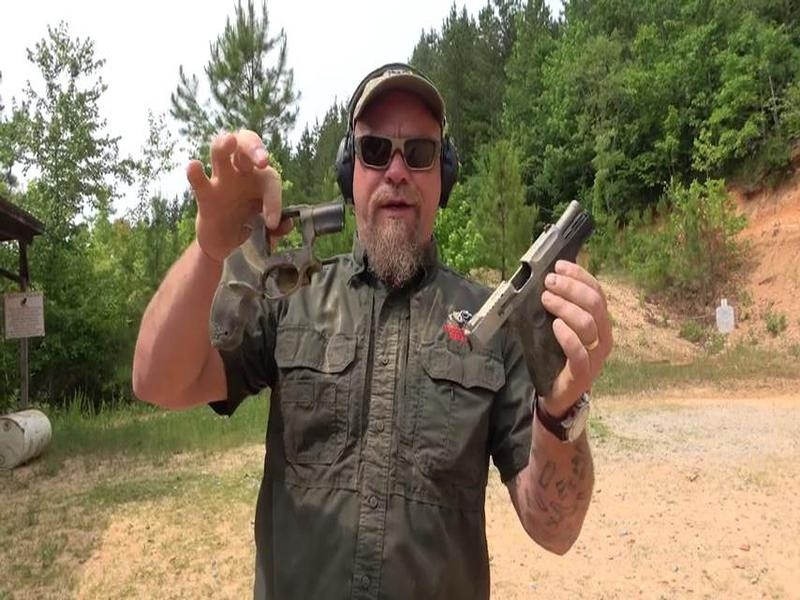Pistola: (458, 205, 617, 401)
Revolver: (190, 183, 365, 380)
